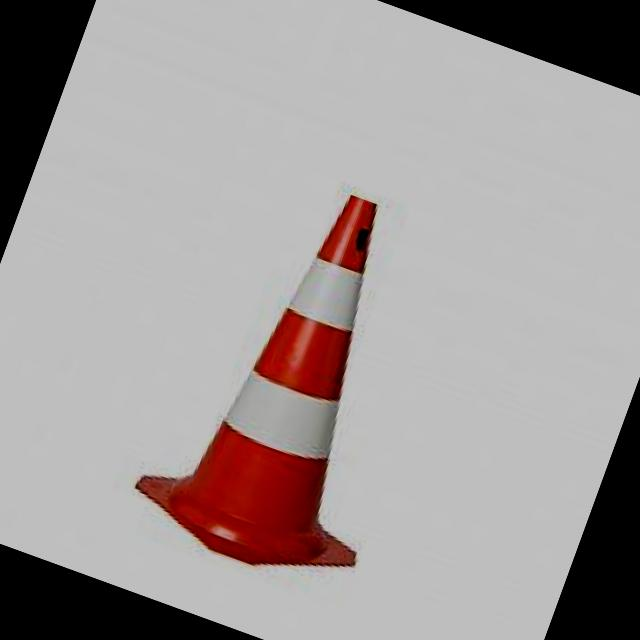cone: (150, 158, 462, 580)
